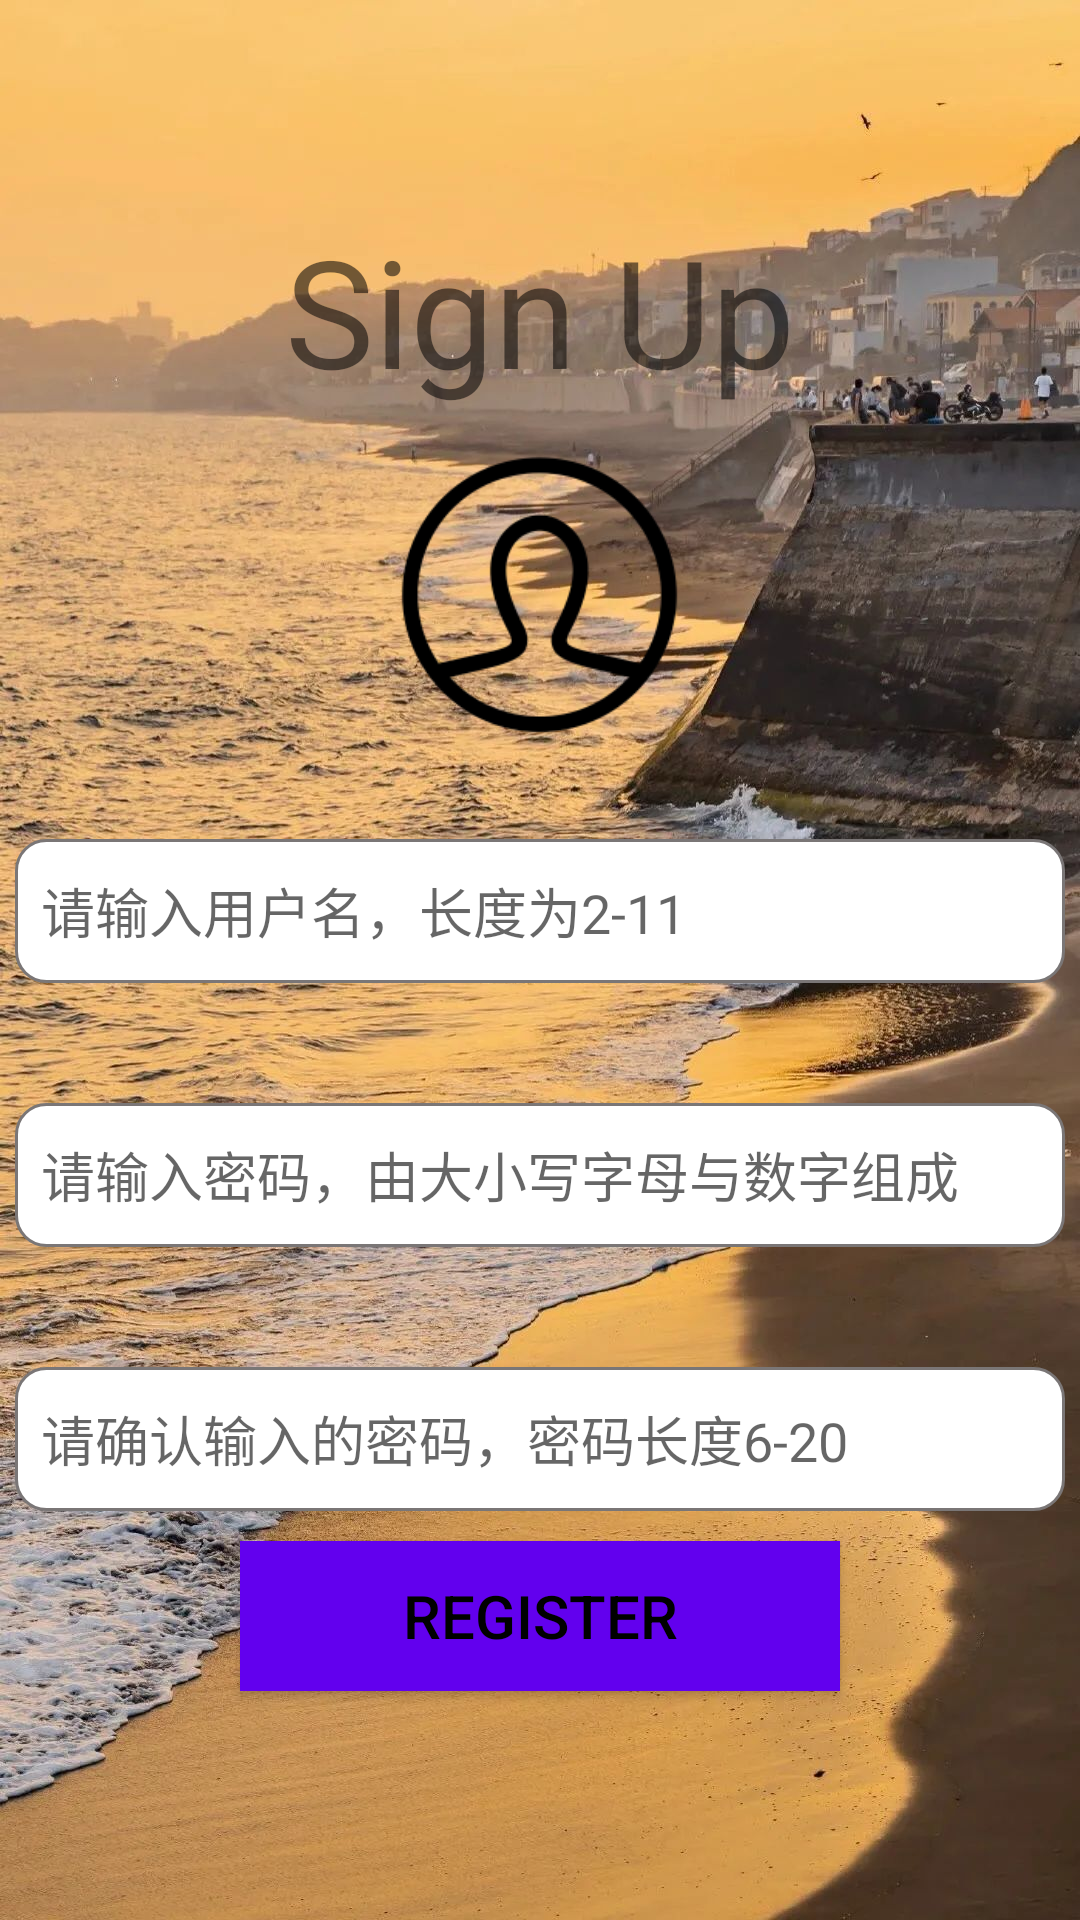

Icon click points for this 1080 x 1920 phone screenshot, format [x,y]:
head: [539,594]
